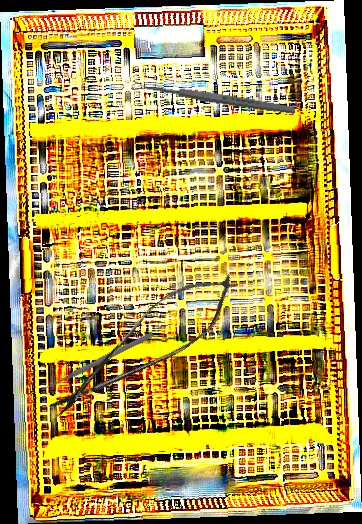Micro Scissor: (38, 256, 251, 436)
Pusher: (39, 330, 155, 394)
Surgical Spoon: (131, 79, 296, 116)
